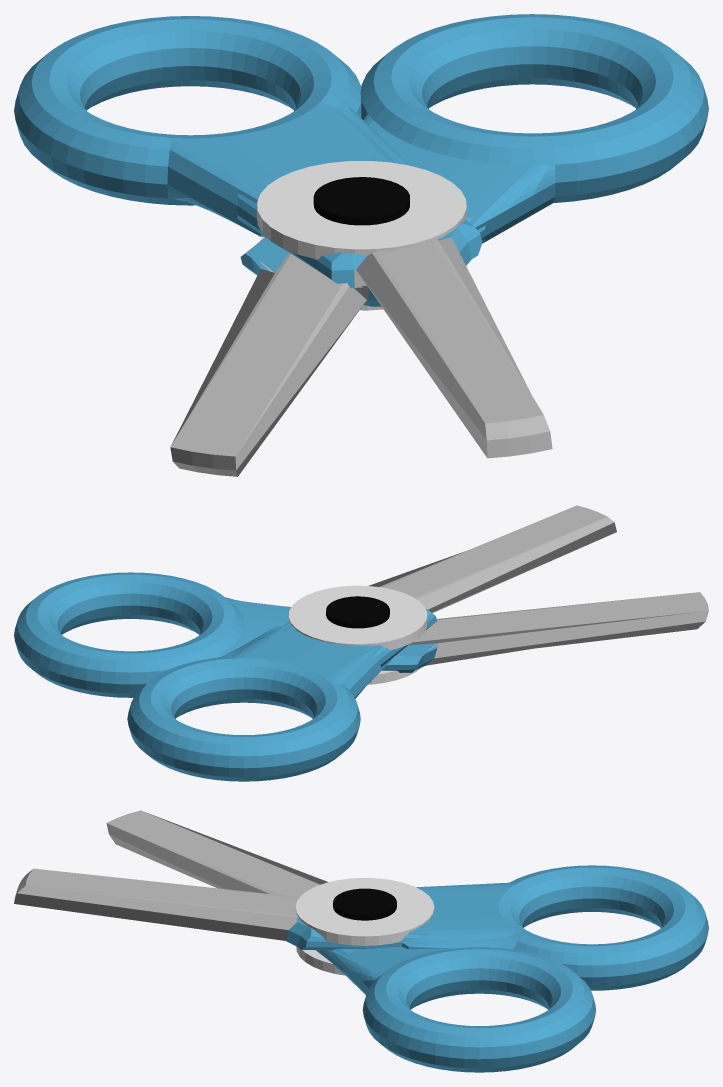
Rendered from Scissor 1.fbx.
3 renders of one model, top to bottom at view 1: azimuth 30°, elevation 25°; view 2: azimuth 150°, elevation 25°; view 3: azimuth 270°, elevation 25°, orthographic. The views are drawn at different scales.
Parts seen in each view (by area): view 1: Torus.001, Torus.000, Cylinder, Cylinder.001; view 2: Torus.001, Torus.000, Cylinder, Cylinder.001; view 3: Torus.001, Torus.000, Cylinder, Cylinder.001, Cylinder.003.
Boxes of the visible parts, bbox=[...] form: Torus.001: bbox=[14, 16, 552, 458]; Torus.000: bbox=[170, 14, 708, 476]; Cylinder: bbox=[257, 161, 466, 259]; Cylinder.001: bbox=[313, 177, 409, 225]; Torus.001: bbox=[127, 505, 616, 781]; Torus.000: bbox=[14, 572, 708, 697]; Cylinder: bbox=[288, 585, 427, 650]; Cylinder.001: bbox=[326, 596, 389, 628]; Torus.001: bbox=[14, 865, 708, 990]; Torus.000: bbox=[106, 810, 595, 1072]; Cylinder: bbox=[295, 877, 434, 945]; Cylinder.001: bbox=[333, 888, 396, 920]; Cylinder.003: bbox=[296, 946, 345, 975].
Bounding box in the file's own units: 631 × 59.97 × 744.
